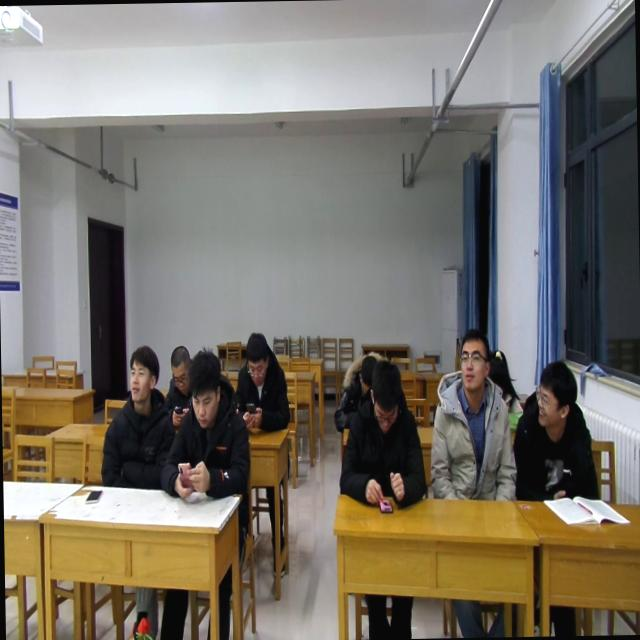down: (186, 346, 228, 434), (370, 356, 402, 436), (241, 328, 270, 389), (168, 344, 194, 396), (352, 347, 377, 388)
lookup: (454, 328, 494, 397), (122, 342, 162, 408)
sit: (426, 326, 518, 503), (156, 345, 252, 504), (336, 357, 429, 510), (508, 356, 598, 506), (96, 343, 178, 495), (234, 332, 291, 434), (332, 348, 387, 430), (484, 346, 526, 436), (163, 342, 196, 428)
